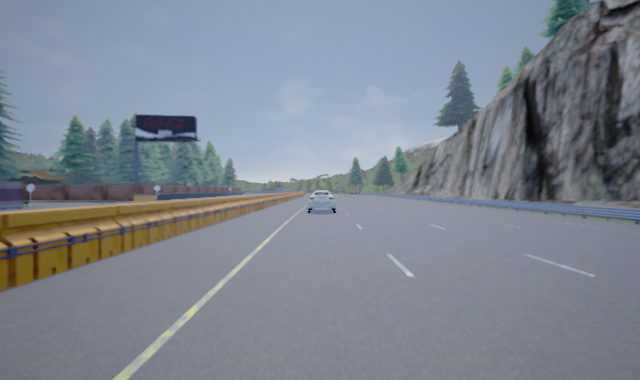vehicle: (306, 190, 336, 213)
